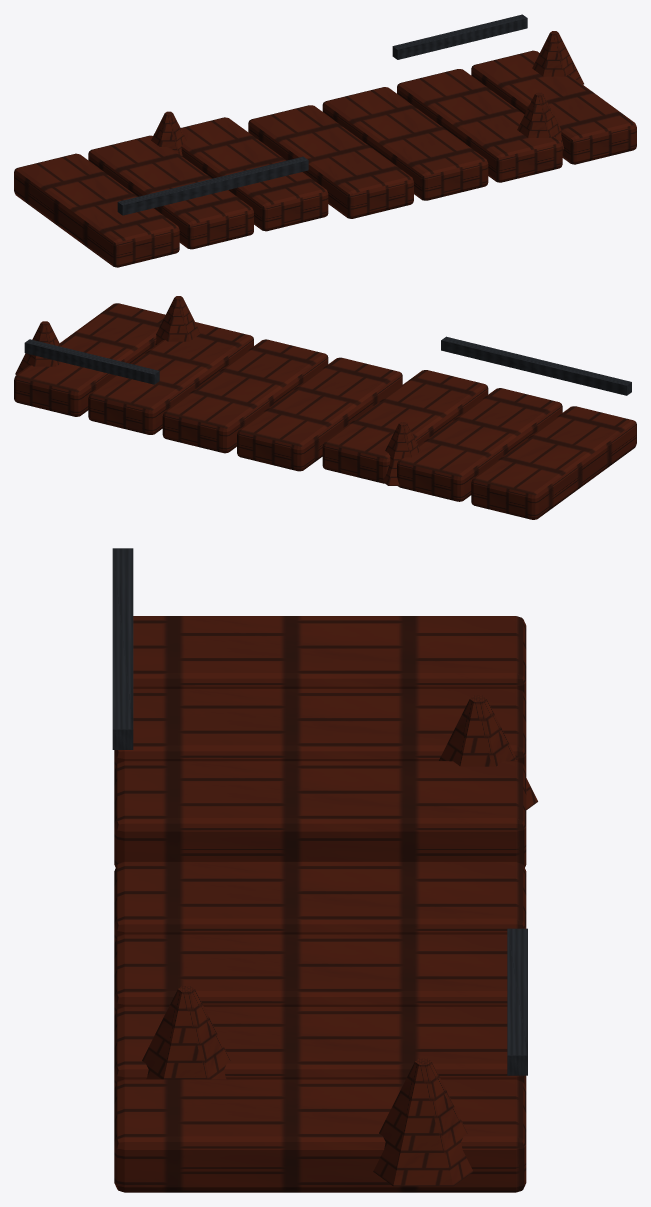
Rendered from SM_FC_BrokenBridge_800.glb.
3 renders of one model, top to bottom at view 1: azimuth 30°, elevation 25°; view 2: azimuth 150°, elevation 25°; view 3: azimuth 270°, elevation 25°, orthographic. The views are drawn at different scales.
Parts seen in each view (by area): view 1: SM_FC_BrokenBridge_800; view 2: SM_FC_BrokenBridge_800; view 3: SM_FC_BrokenBridge_800.
Part boxes in pixels (x1,y1,x2,y2): SM_FC_BrokenBridge_800: (14, 14, 636, 267); SM_FC_BrokenBridge_800: (14, 296, 636, 519); SM_FC_BrokenBridge_800: (112, 548, 537, 1192).
Size of the model in its own units: 7.25 by 0.925 by 2.48.
Materials: 2 (2 with a texture image).
